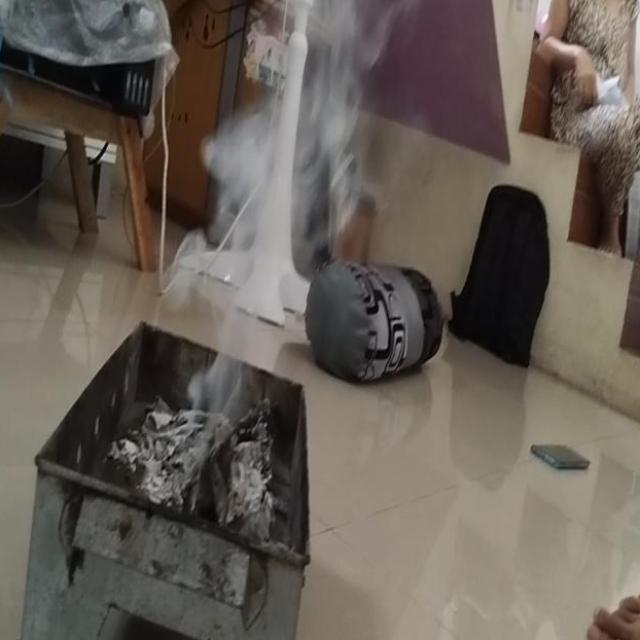fire: (199, 9, 387, 308)
